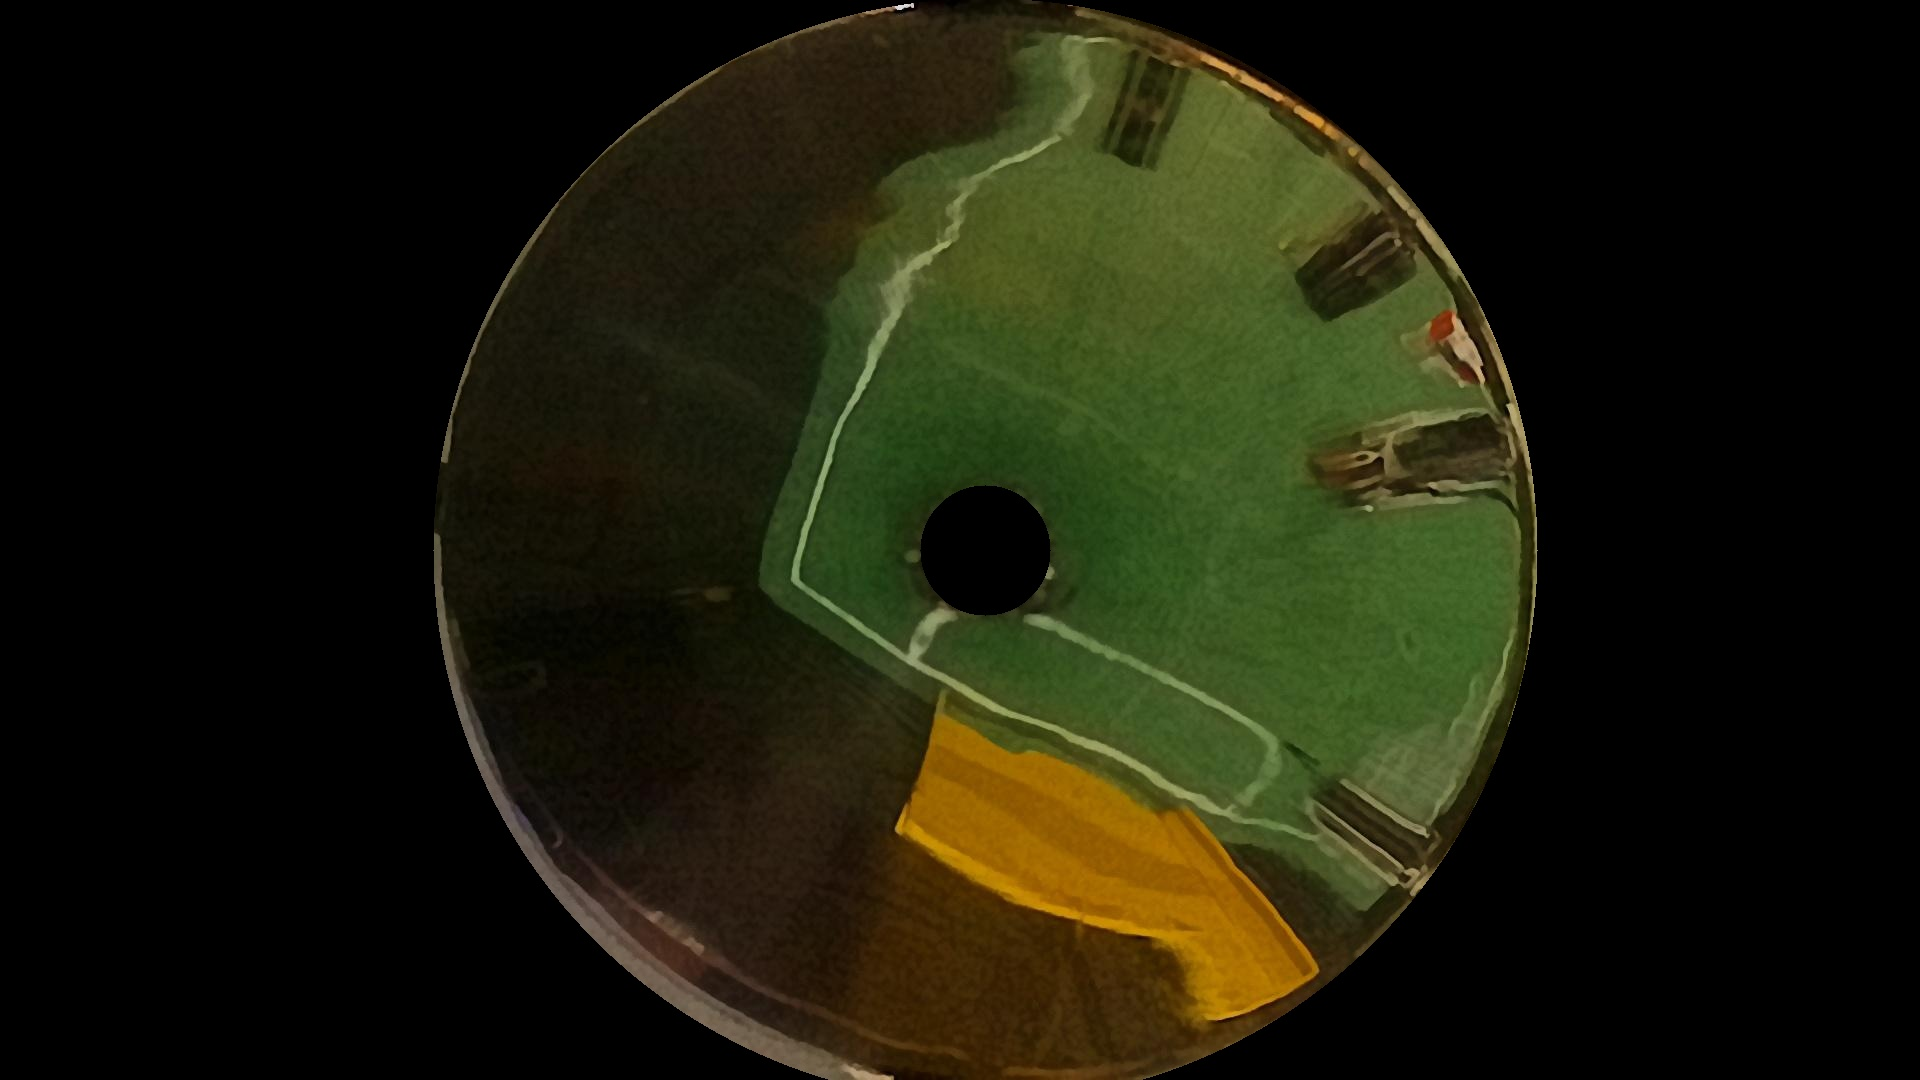robots: (1254, 716, 1425, 891), (1304, 394, 1530, 512), (1282, 179, 1404, 326), (1095, 34, 1207, 186), (1410, 306, 1490, 388)
yellow-goal: (924, 698, 1302, 1007)
